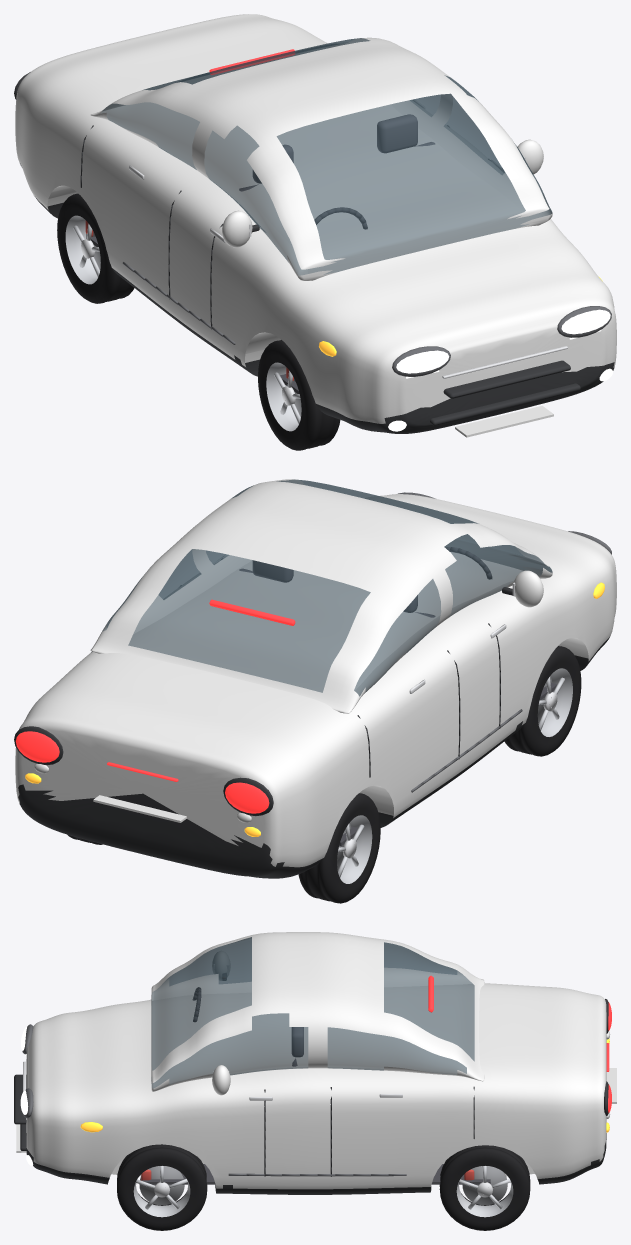
Rendered from voiture-citadine-trafic.glb.
3 renders of one model, top to bottom at view 1: azimuth 30°, elevation 25°; view 2: azimuth 150°, elevation 25°; view 3: azimuth 270°, elevation 25°, orthographic. The views are drawn at different scales.
Visible parts, largest first — view 1: carrosserie, habitacle, roue_av_g_m, roue_ar_g_m, calandre, appuie_tete.001, prise_air, plaque_av, retro, phare, phare.001, retro.001; view 2: carrosserie, habitacle, roue_ar_g_m, roue_av_g_m, feu_ar, feu_ar.001, retro, plaque_ar, feu_stop_haut, appuie_tete.001; view 3: carrosserie, habitacle, roue_av_d_m, roue_ar_d_m, plancher, jonc.001, calandre, retro.001.
Part boxes in pixels (box(x1,y1,x2,y2)): carrosserie: box(15, 14, 616, 433); habitacle: box(91, 37, 552, 280); roue_av_g_m: box(258, 340, 340, 450); roue_ar_g_m: box(57, 193, 134, 303); calandre: box(443, 360, 570, 398); appuie_tete.001: box(377, 114, 417, 153); prise_air: box(430, 383, 580, 425); plaque_av: box(455, 405, 553, 437); retro: box(222, 210, 252, 247); phare: box(396, 350, 449, 373); phare.001: box(561, 309, 610, 334); retro.001: box(517, 139, 543, 174); carrosserie: box(15, 494, 616, 878); habitacle: box(90, 479, 552, 713); roue_ar_g_m: box(298, 793, 380, 903); roue_av_g_m: box(504, 646, 581, 756); feu_ar: box(225, 782, 269, 813); feu_ar.001: box(15, 731, 59, 762); retro: box(513, 570, 543, 607); plaque_ar: box(93, 795, 186, 822); feu_stop_haut: box(209, 599, 295, 625); appuie_tete.001: box(252, 560, 293, 582); carrosserie: box(26, 983, 606, 1194); habitacle: box(151, 932, 484, 1091); roue_av_d_m: box(117, 1144, 207, 1230); roue_ar_d_m: box(439, 1145, 530, 1230); plancher: box(142, 1164, 490, 1184); jonc.001: box(228, 1173, 406, 1176); calandre: box(14, 1074, 26, 1124); retro.001: box(212, 1065, 230, 1095).
Bounding box in the file's own units: 1.9 × 1.52 × 3.86.
